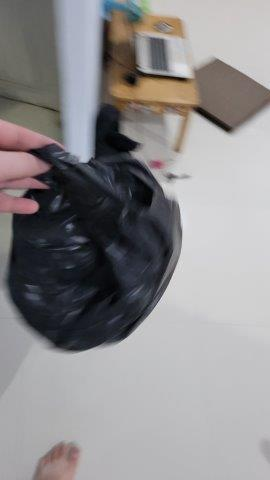plastik: (2, 143, 183, 356)
